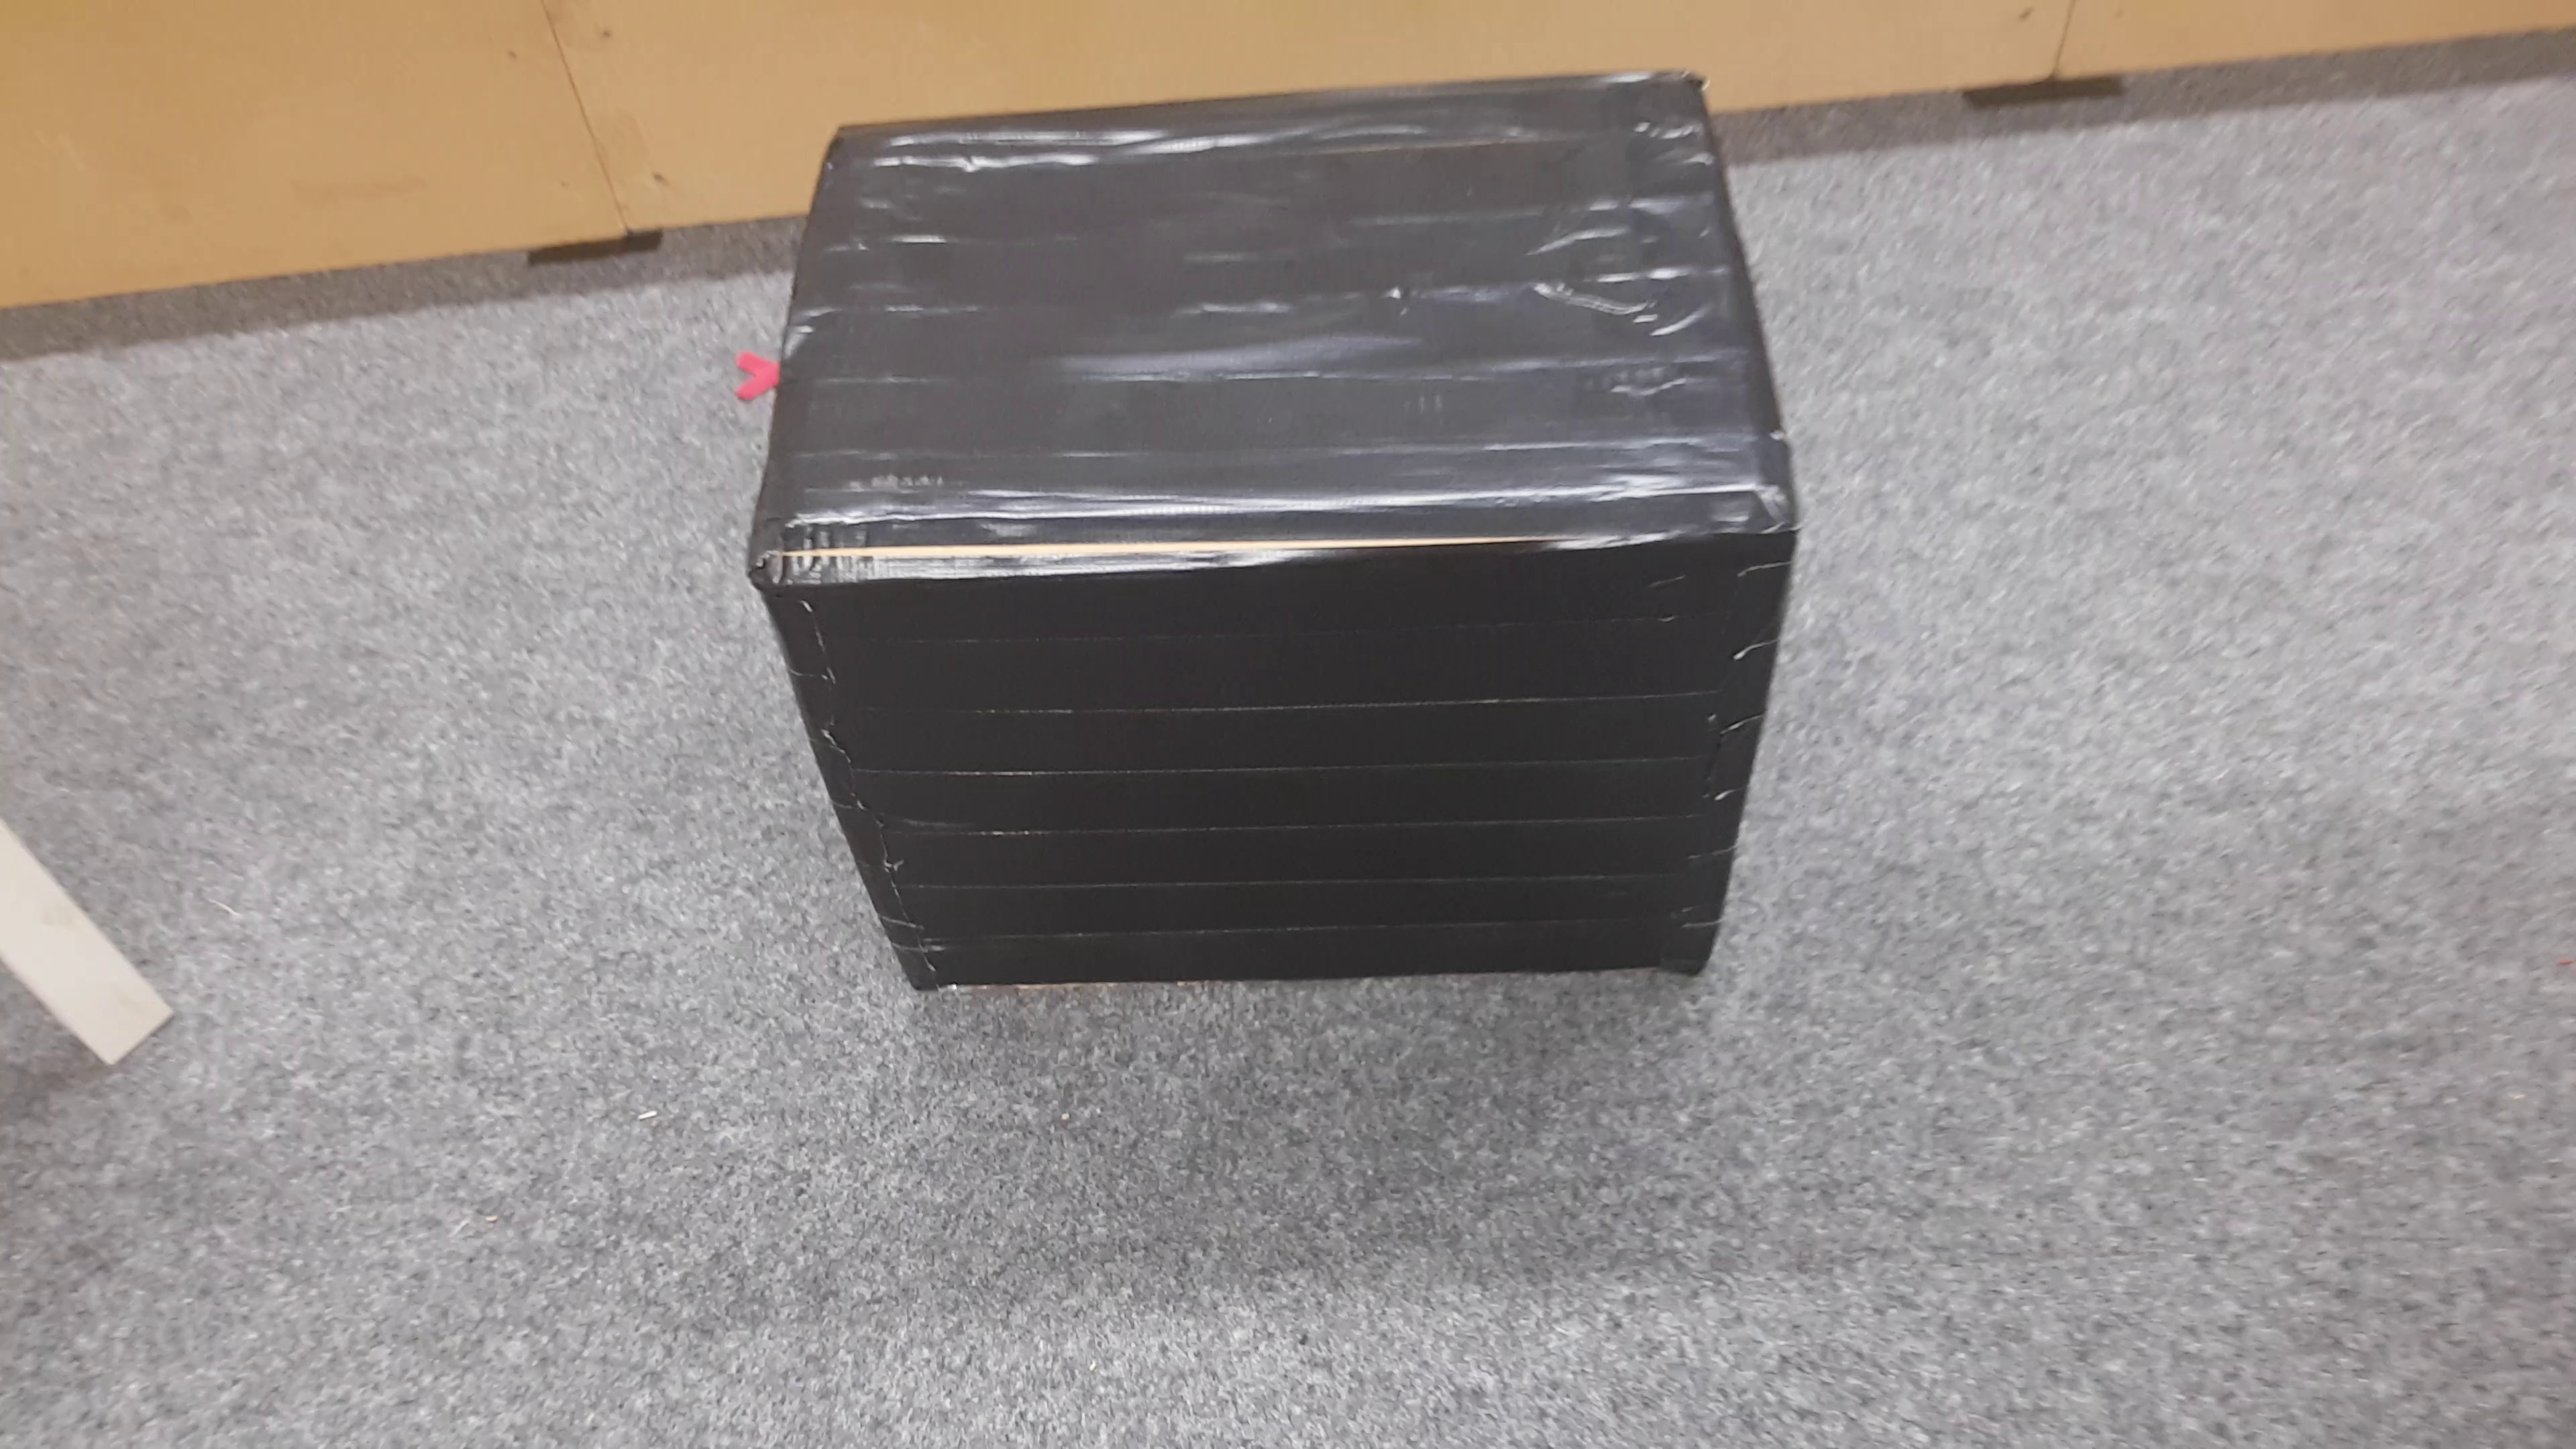push: (747, 120, 1803, 998)
